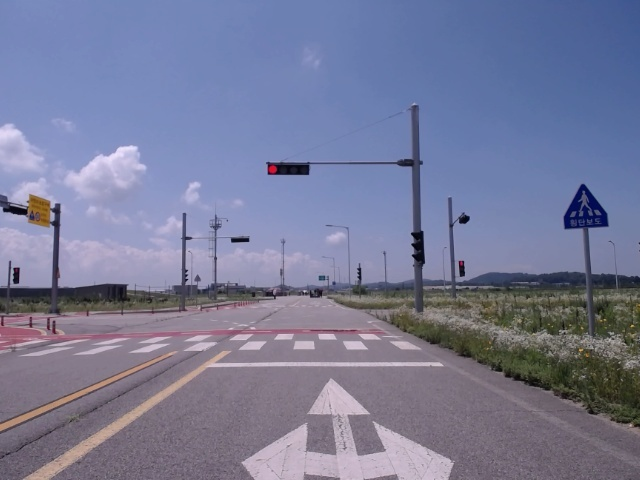red_4: (267, 164, 309, 175)
